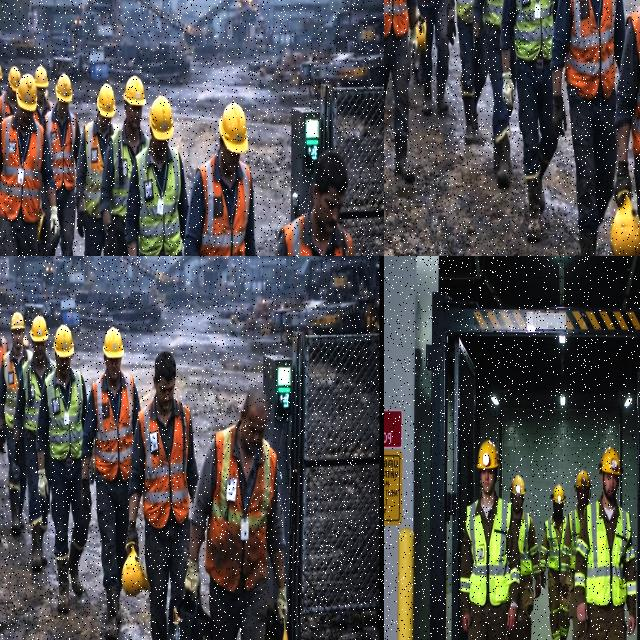Vest: (205, 425, 276, 592), (138, 400, 189, 528), (577, 501, 630, 606), (565, 0, 616, 100), (135, 145, 181, 255), (199, 156, 250, 255), (466, 499, 510, 606), (0, 115, 42, 223), (92, 373, 133, 481), (44, 369, 82, 460), (45, 110, 76, 191), (513, 0, 553, 62), (110, 128, 132, 218), (84, 121, 103, 218), (0, 351, 18, 429), (22, 361, 40, 433), (282, 215, 311, 255), (545, 519, 564, 571), (384, 0, 408, 39), (518, 514, 531, 577), (567, 509, 579, 570), (631, 81, 639, 160), (482, 0, 502, 28), (456, 0, 473, 24), (0, 91, 12, 122), (421, 0, 432, 0)
Worker: (185, 388, 286, 639), (125, 351, 197, 639), (551, 0, 624, 255), (81, 327, 139, 639), (36, 325, 90, 613), (500, 0, 557, 241), (573, 448, 635, 639), (460, 441, 518, 639), (184, 102, 255, 255), (0, 75, 58, 255), (13, 315, 52, 571), (125, 96, 187, 255), (100, 75, 146, 255), (275, 151, 352, 255), (473, 0, 510, 187), (76, 83, 115, 255), (0, 312, 30, 535), (43, 74, 79, 255), (384, 0, 416, 182), (446, 0, 485, 144), (614, 7, 639, 218), (560, 470, 590, 639), (509, 475, 539, 639), (540, 485, 568, 639), (417, 0, 448, 115), (0, 66, 20, 122), (0, 335, 7, 368), (0, 66, 1, 95)
helmet: (610, 191, 639, 255), (121, 543, 149, 596), (219, 102, 247, 154), (149, 96, 172, 140), (264, 603, 287, 639), (16, 74, 36, 112), (123, 75, 145, 106), (53, 325, 73, 358), (598, 447, 621, 475), (476, 440, 498, 469), (96, 83, 114, 118), (103, 327, 123, 358), (54, 74, 72, 104), (30, 315, 47, 342), (415, 19, 426, 52), (7, 66, 20, 91), (574, 470, 590, 489), (34, 66, 47, 89), (510, 475, 524, 495), (551, 484, 564, 504), (10, 312, 24, 330), (0, 66, 1, 80)
